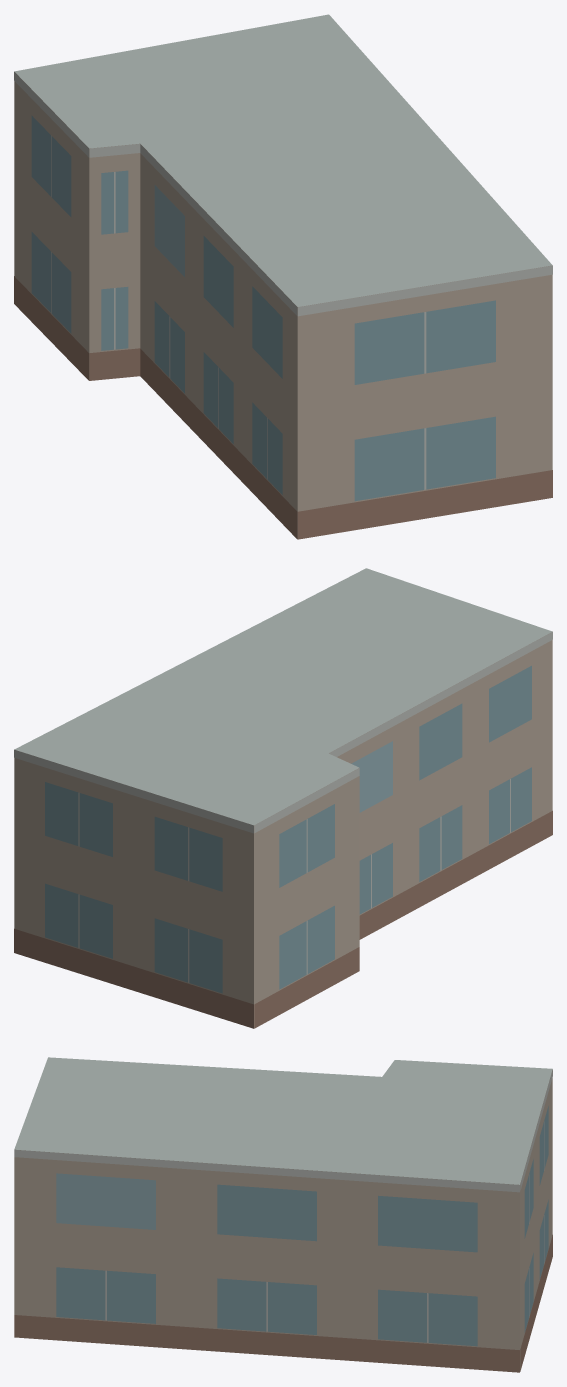
The model's file is survey-upis-32657983.glb.
The picture shows the model from 3 angles, top to bottom: view 1: azimuth 30°, elevation 25°; view 2: azimuth 150°, elevation 25°; view 3: azimuth 270°, elevation 25°; orthographic projection. The views are drawn at different scales.
Visible parts, largest first — view 1: survey-upis-32657983.tmp; view 2: survey-upis-32657983.tmp; view 3: survey-upis-32657983.tmp.
Boxes of the visible parts, x1,y1,x2,y2 form: survey-upis-32657983.tmp: (14, 14, 552, 539); survey-upis-32657983.tmp: (14, 568, 552, 1028); survey-upis-32657983.tmp: (14, 1057, 552, 1372).
Size of the model in its own units: 8.9 by 6.1 by 15.87.
